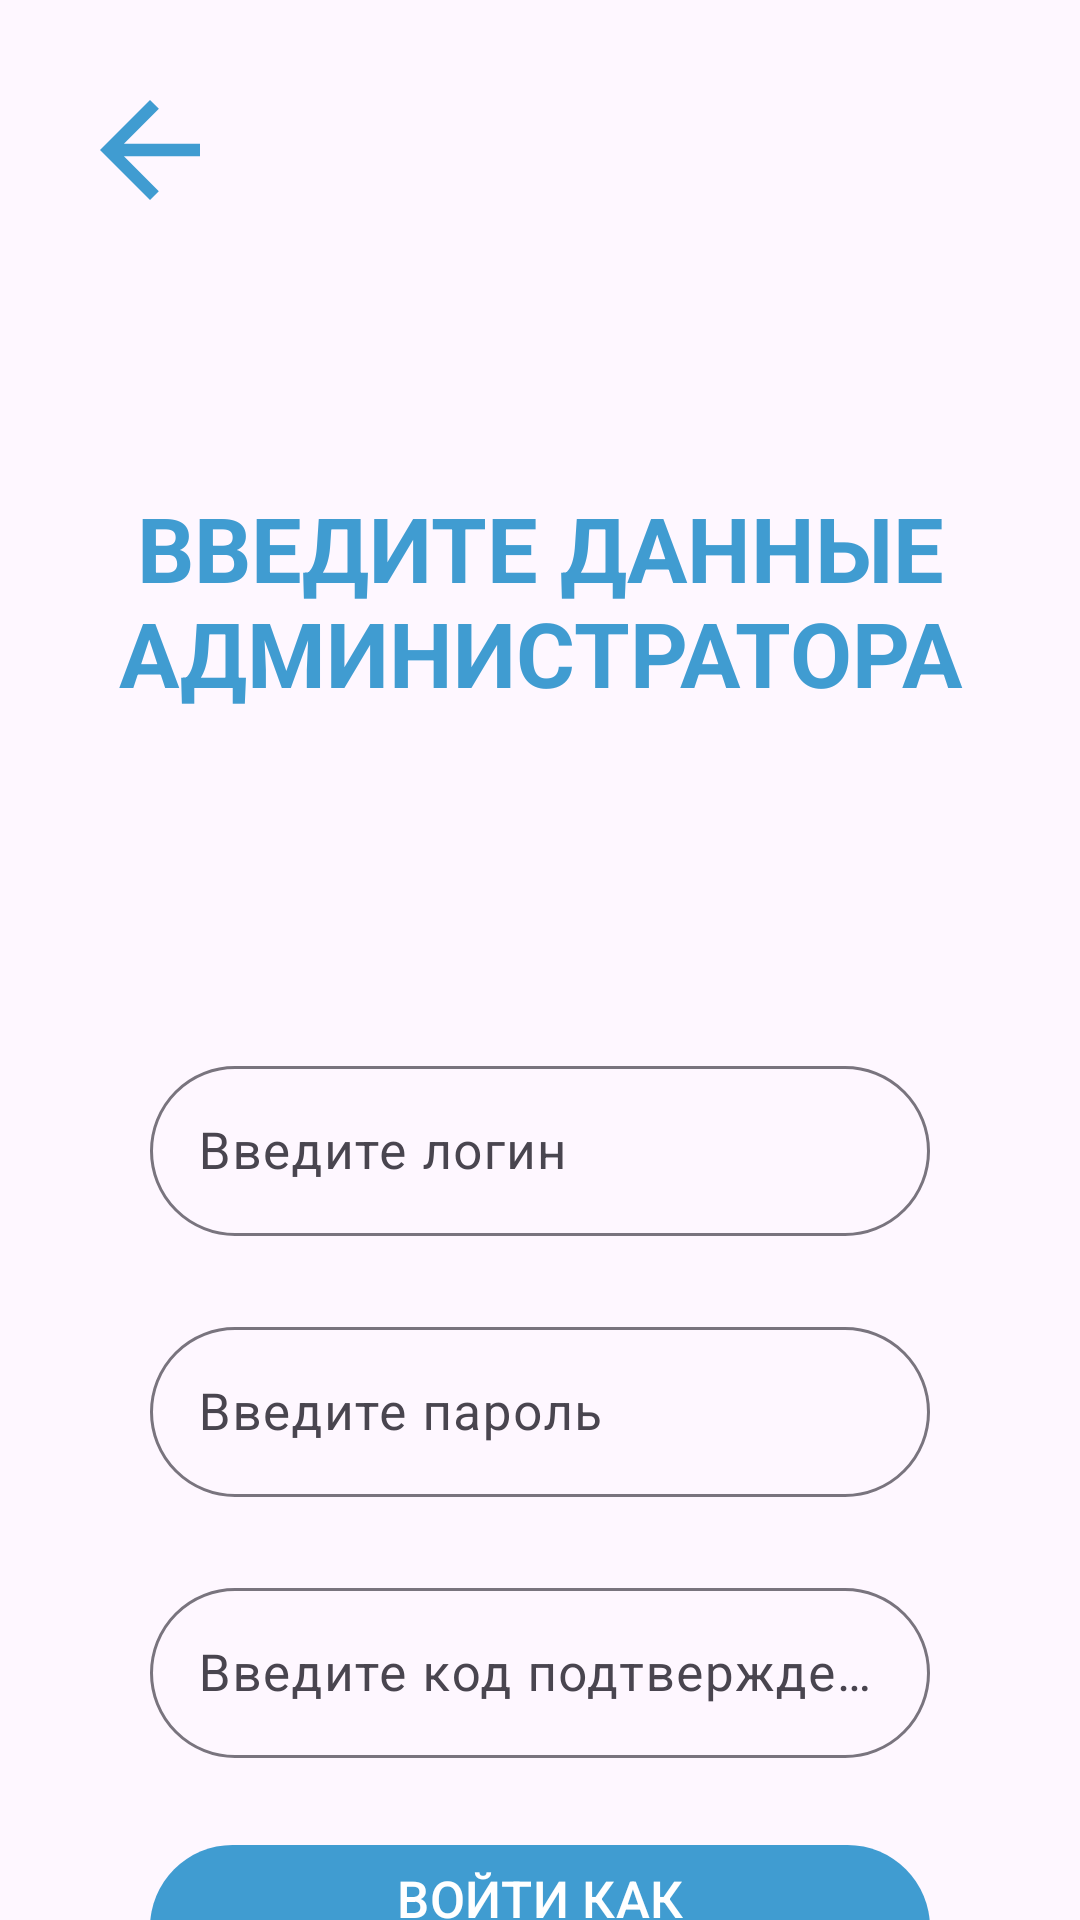

Where icons sit on this 1080*1920 app screen, as (x1, y1, x2, y2):
arrow: (100, 100, 200, 200)
